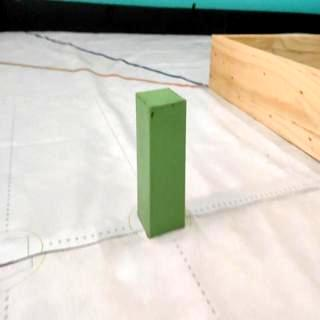greenbox: (134, 87, 188, 240)
